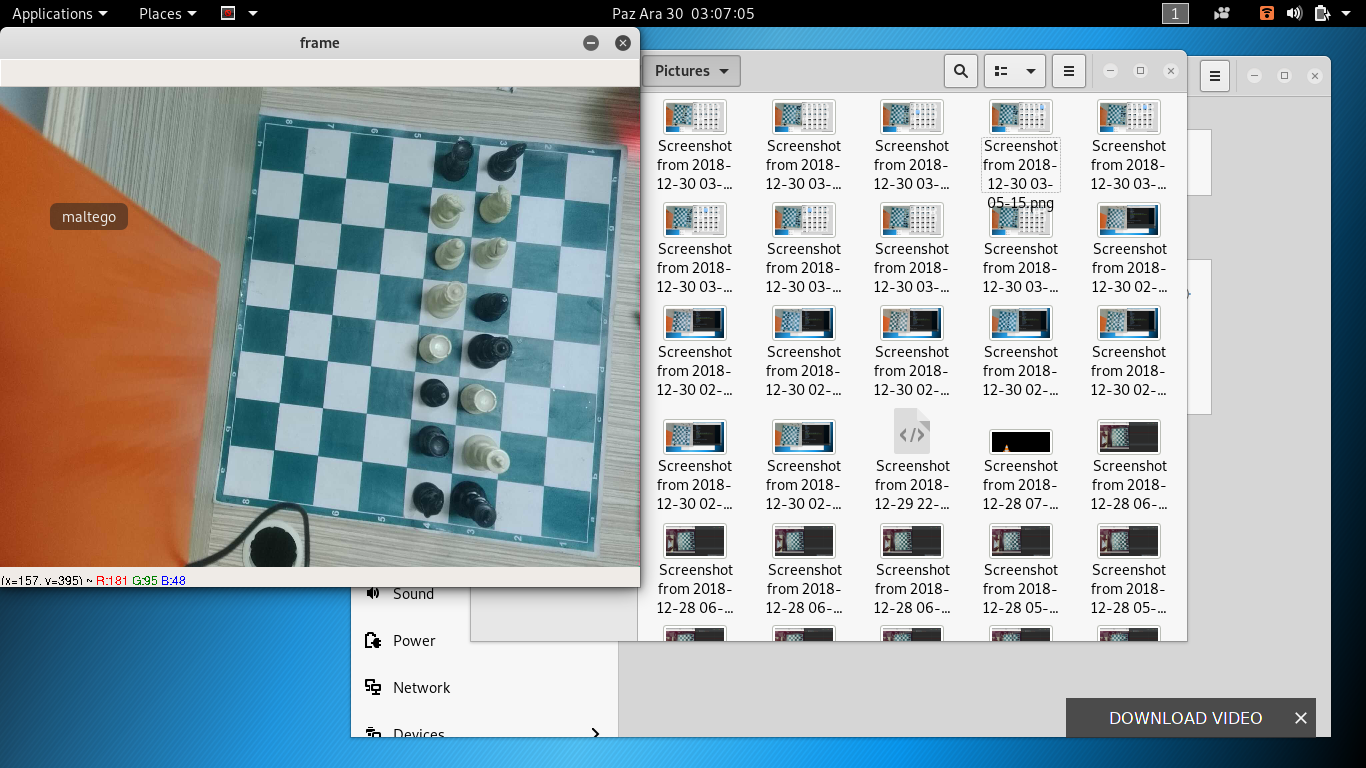BeyazAt: (478, 185, 512, 223), (431, 193, 463, 228)
BeyazFil: (433, 237, 466, 268), (474, 238, 509, 267)
BeyazKale: (458, 383, 498, 413), (420, 334, 452, 361)
BeyazSah: (465, 434, 509, 474)
BeyazVezir: (427, 282, 463, 318)
SiyahAt: (488, 142, 527, 183), (415, 479, 445, 517)
SiyahFil: (472, 289, 509, 324), (417, 378, 452, 410)
SiyahKale: (440, 140, 473, 183), (414, 424, 451, 457)
SiyahSah: (453, 482, 499, 527)
